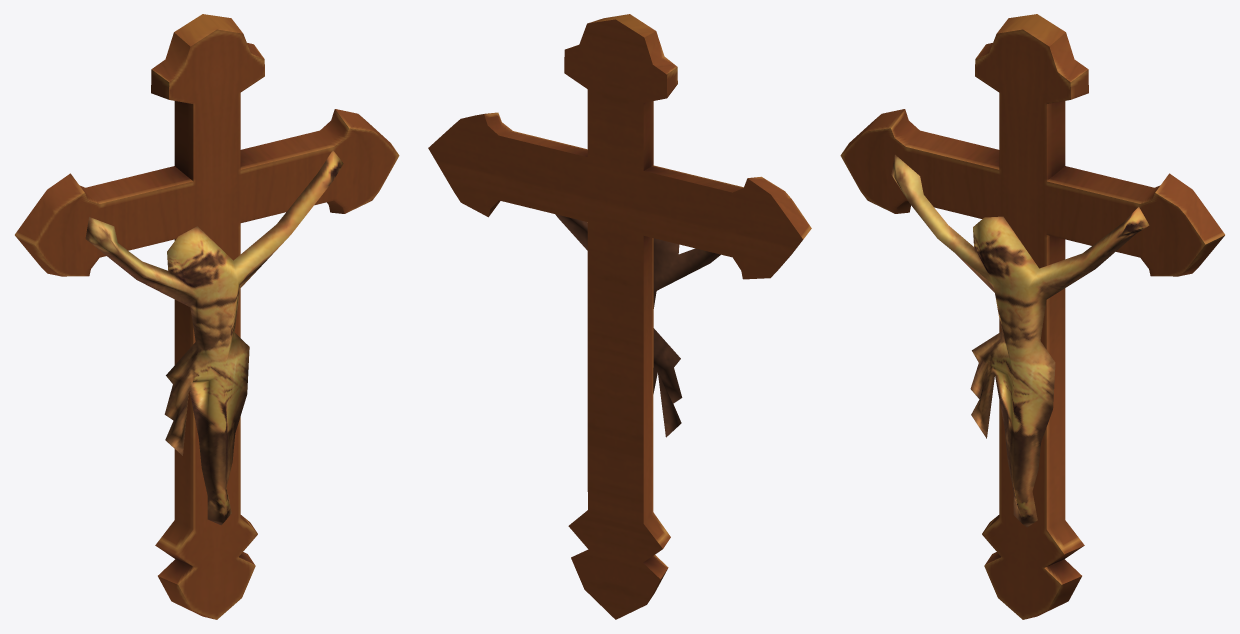
File: ShenFuXiuXiShi_01_shizi_01.FBX
3 renders of one model, left to right at view 1: azimuth 30°, elevation 25°; view 2: azimuth 150°, elevation 25°; view 3: azimuth 330°, elevation 25°, orthographic.
Visible parts, largest first — view 1: ShenFuXiuXiShi_01_shizi_01; view 2: ShenFuXiuXiShi_01_shizi_01; view 3: ShenFuXiuXiShi_01_shizi_01.
Part boxes in pixels (x1,y1,x2,y2): ShenFuXiuXiShi_01_shizi_01: [15, 14, 399, 619]; ShenFuXiuXiShi_01_shizi_01: [428, 14, 811, 619]; ShenFuXiuXiShi_01_shizi_01: [840, 14, 1224, 619].
Bounding box in the file's own units: 218 × 333 × 22.52.
